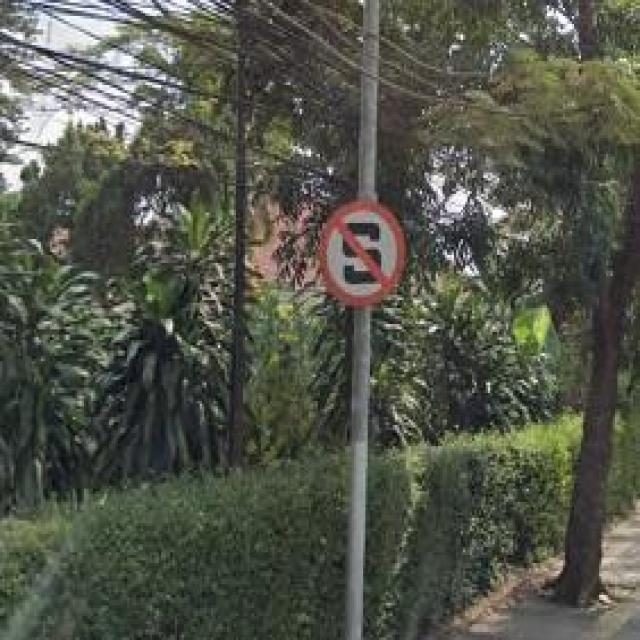traffic sign: (318, 200, 406, 306)
